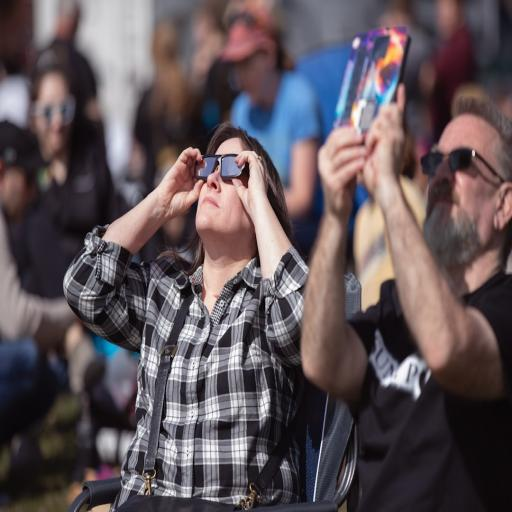face: (424, 158, 500, 267), (196, 168, 255, 252), (33, 72, 74, 160)
